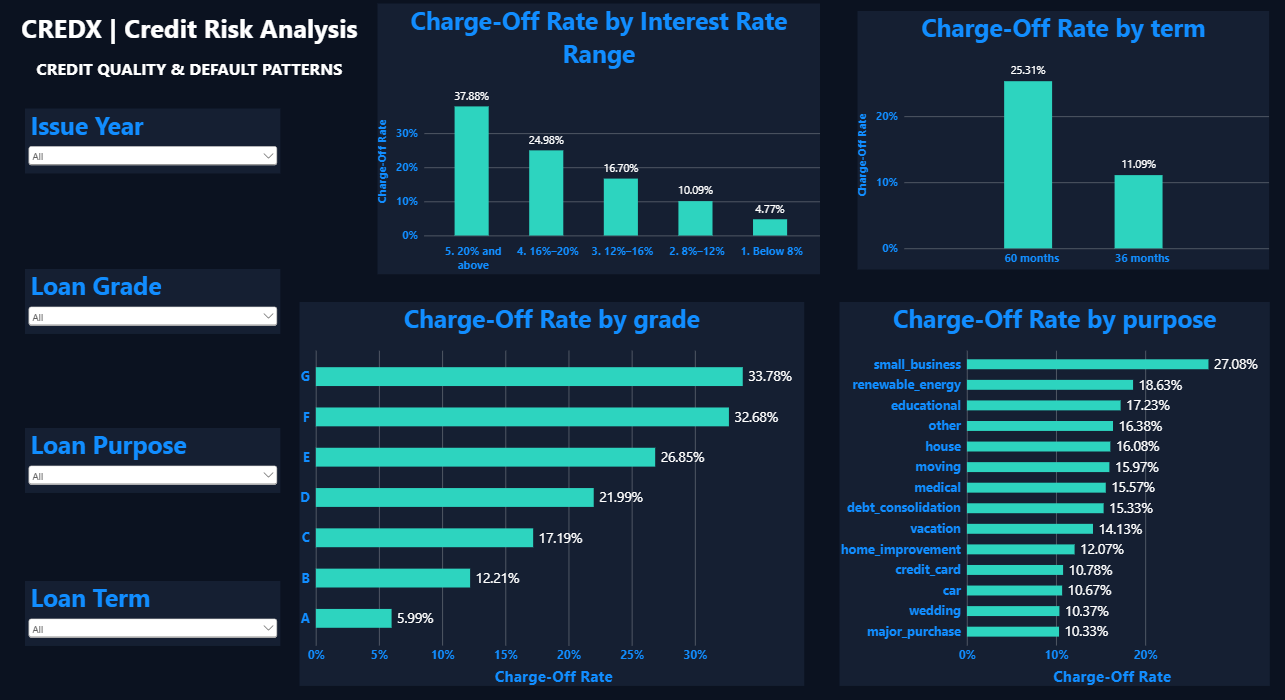

Layout of this report page (visuals, bound fields, positions):
{"tool":"powerbi","page":{"name":"Credit Risk Analysis","canvas":[1920,1080],"ordinal":1},"visuals":[{"type":"textbox","box":[0,43.2,588.3,122.7],"z":0},{"type":"slicer","fields":{"Values":["credx dim_dates.year"]},"box":[52.2,186.2,374.8,95.4],"z":1000},{"type":"slicer","fields":{"Values":["credx dim_loan_details.grade"]},"box":[52.2,422.5,374.8,95.4],"z":2000},{"type":"slicer","fields":{"Values":["credx dim_loan_details.purpose"]},"box":[52.2,656.4,374.8,95.4],"z":3000},{"type":"slicer","fields":{"Values":["credx dim_loan_details.term"]},"box":[52.2,881.3,374.8,95.4],"z":4000},{"type":"clusteredBarChart","fields":{"Category":["credx dim_loan_details.grade"],"Y":["credx fact_loans.Charge-Off Rate"]},"box":[456.5,470.2,740.4,563.3],"z":5000},{"type":"clusteredColumnChart","fields":{"Category":["credx dim_loan_details.term"],"Y":["credx fact_loans.Charge-Off Rate"]},"box":[1274.2,43.2,604.2,379.3],"z":6000},{"type":"clusteredColumnChart","fields":{"Category":["credx dim_loan_details.Interest Rate Range"],"Y":["credx fact_loans.Charge-Off Rate"]},"box":[570.1,34.1,649.6,397.5],"z":7000},{"type":"clusteredBarChart","fields":{"Category":["credx dim_loan_details.purpose"],"Y":["credx fact_loans.Charge-Off Rate"]},"box":[1246.9,470.2,631.4,563.3],"z":8000}]}

Visuals, with their boxes on the page's 1920x1080 design canvas (x1, y1, x2, y2). These are canvas units, not pixel positions in the 1285x700 screenshot, which may show the page scaled, cropped or inside an application window:
textbox: [x1=0, y1=43, x2=588, y2=166]
slicer - credx dim_dates.year: [x1=52, y1=186, x2=427, y2=282]
slicer - credx dim_loan_details.grade: [x1=52, y1=422, x2=427, y2=518]
slicer - credx dim_loan_details.purpose: [x1=52, y1=656, x2=427, y2=752]
slicer - credx dim_loan_details.term: [x1=52, y1=881, x2=427, y2=977]
clusteredBarChart - credx dim_loan_details.grade x credx fact_loans.Charge-Off Rate: [x1=456, y1=470, x2=1197, y2=1034]
clusteredColumnChart - credx dim_loan_details.term x credx fact_loans.Charge-Off Rate: [x1=1274, y1=43, x2=1878, y2=422]
clusteredColumnChart - credx dim_loan_details.Interest Rate Range x credx fact_loans.Charge-Off Rate: [x1=570, y1=34, x2=1220, y2=432]
clusteredBarChart - credx dim_loan_details.purpose x credx fact_loans.Charge-Off Rate: [x1=1247, y1=470, x2=1878, y2=1034]
